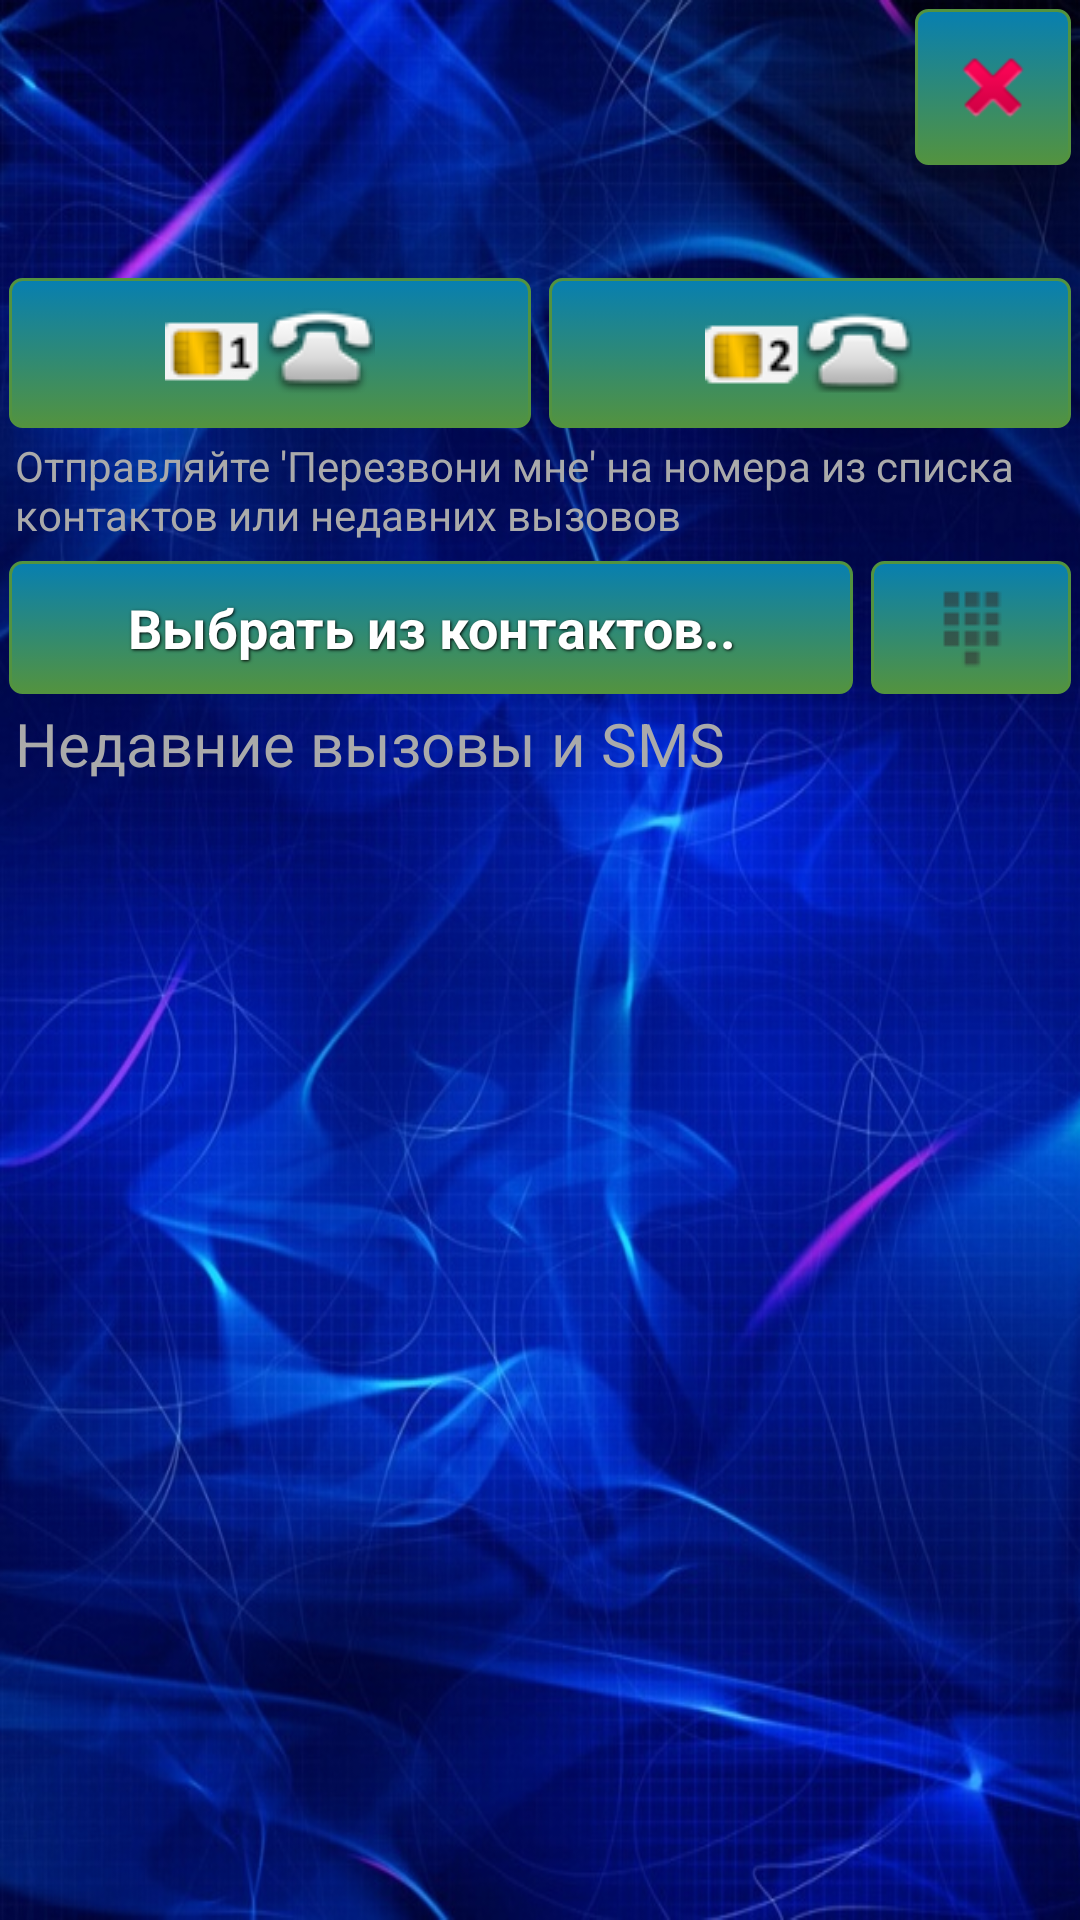

Named icons in this screenshot (1080 × 1920) and their centers, (x,y):
delete: (993,87)
dial: (971,627)
